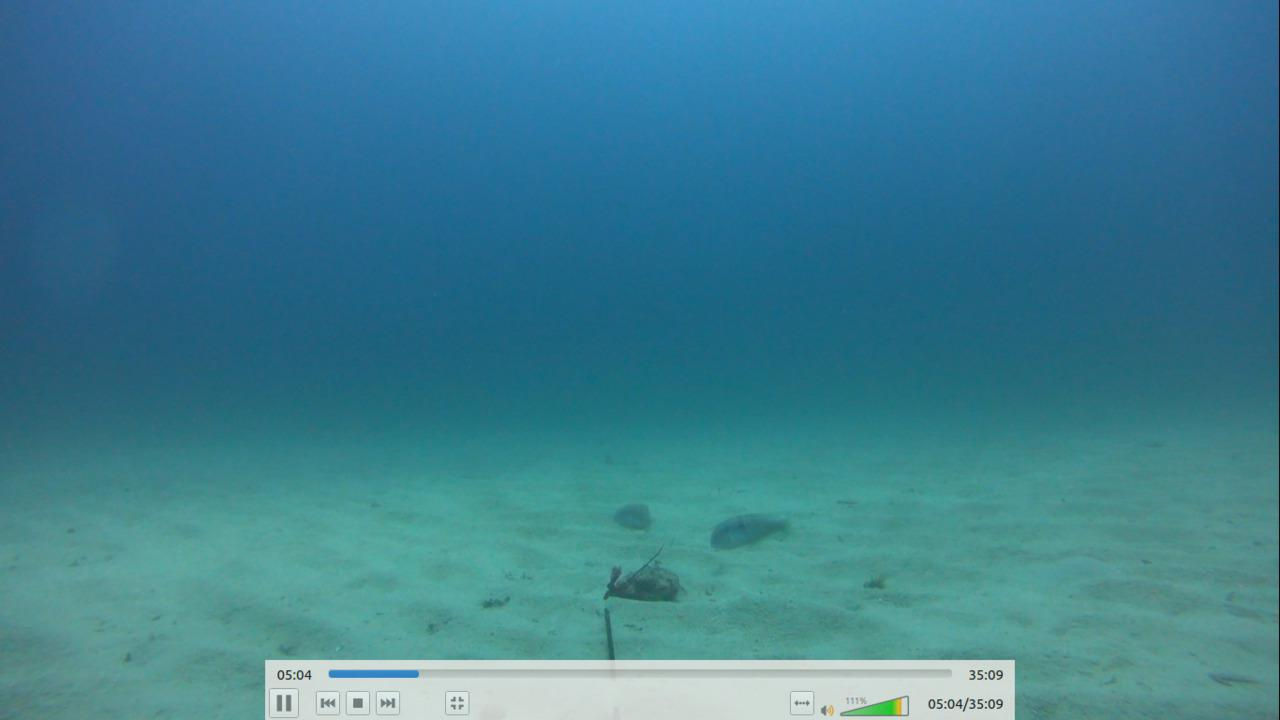raor: (707, 512, 791, 553), (606, 495, 659, 537)
